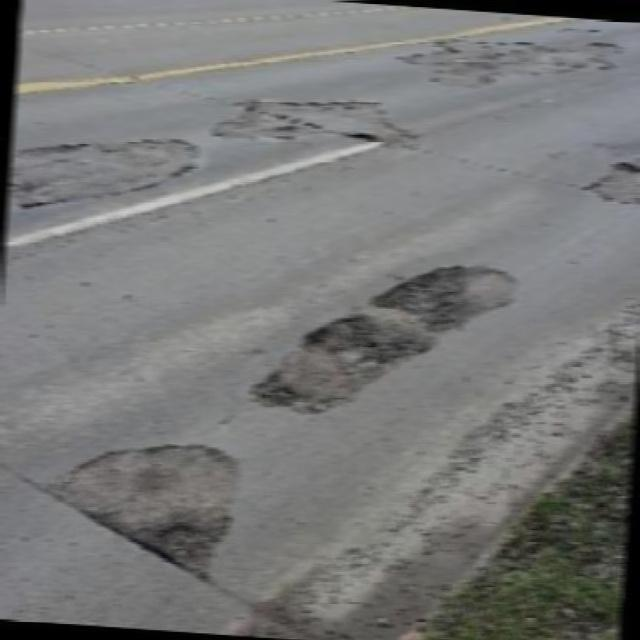Pothole: (246, 252, 535, 424), (22, 434, 247, 586), (196, 90, 432, 166), (0, 124, 202, 211), (386, 35, 640, 92), (565, 146, 640, 212)
